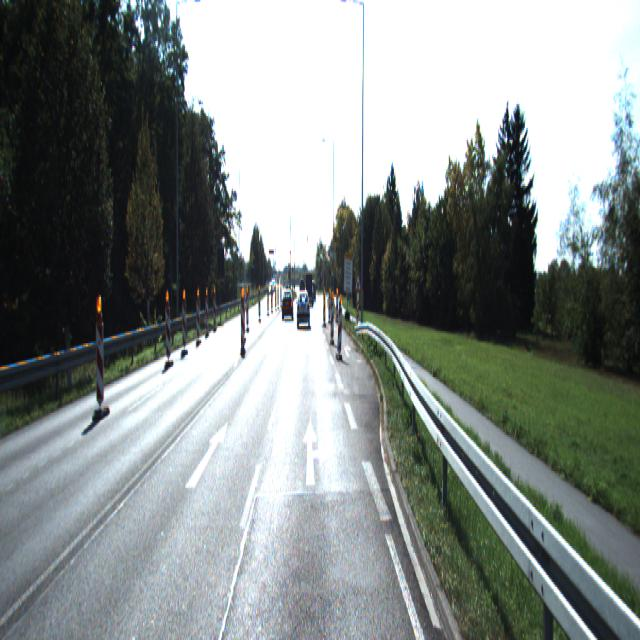Car: (297, 294, 310, 328), (282, 291, 294, 322)
